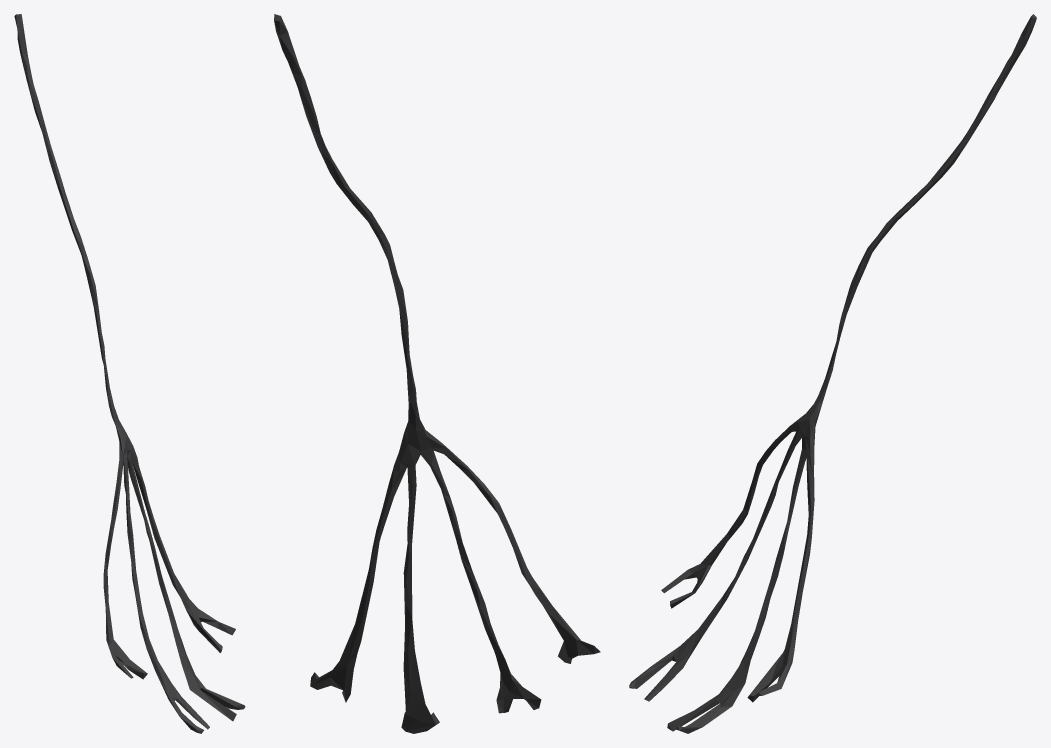
The model's file is Tend_SupDigFlex.glb.
3 views of the same model, side by side, from view 1: azimuth 30°, elevation 25°; view 2: azimuth 150°, elevation 25°; view 3: azimuth 270°, elevation 25° (orthographic). The views are drawn at different scales.
Visible parts, largest first — view 1: Tend_SupDigFlex; view 2: Tend_SupDigFlex; view 3: Tend_SupDigFlex.
Part boxes in pixels (bbox=[...]): Tend_SupDigFlex: bbox=[14, 14, 245, 733]; Tend_SupDigFlex: bbox=[274, 14, 600, 733]; Tend_SupDigFlex: bbox=[629, 14, 1036, 733].
Bounding box in the file's own units: 0.0099 × 0.0366 × 0.0198.
1 material, 1 textured.
